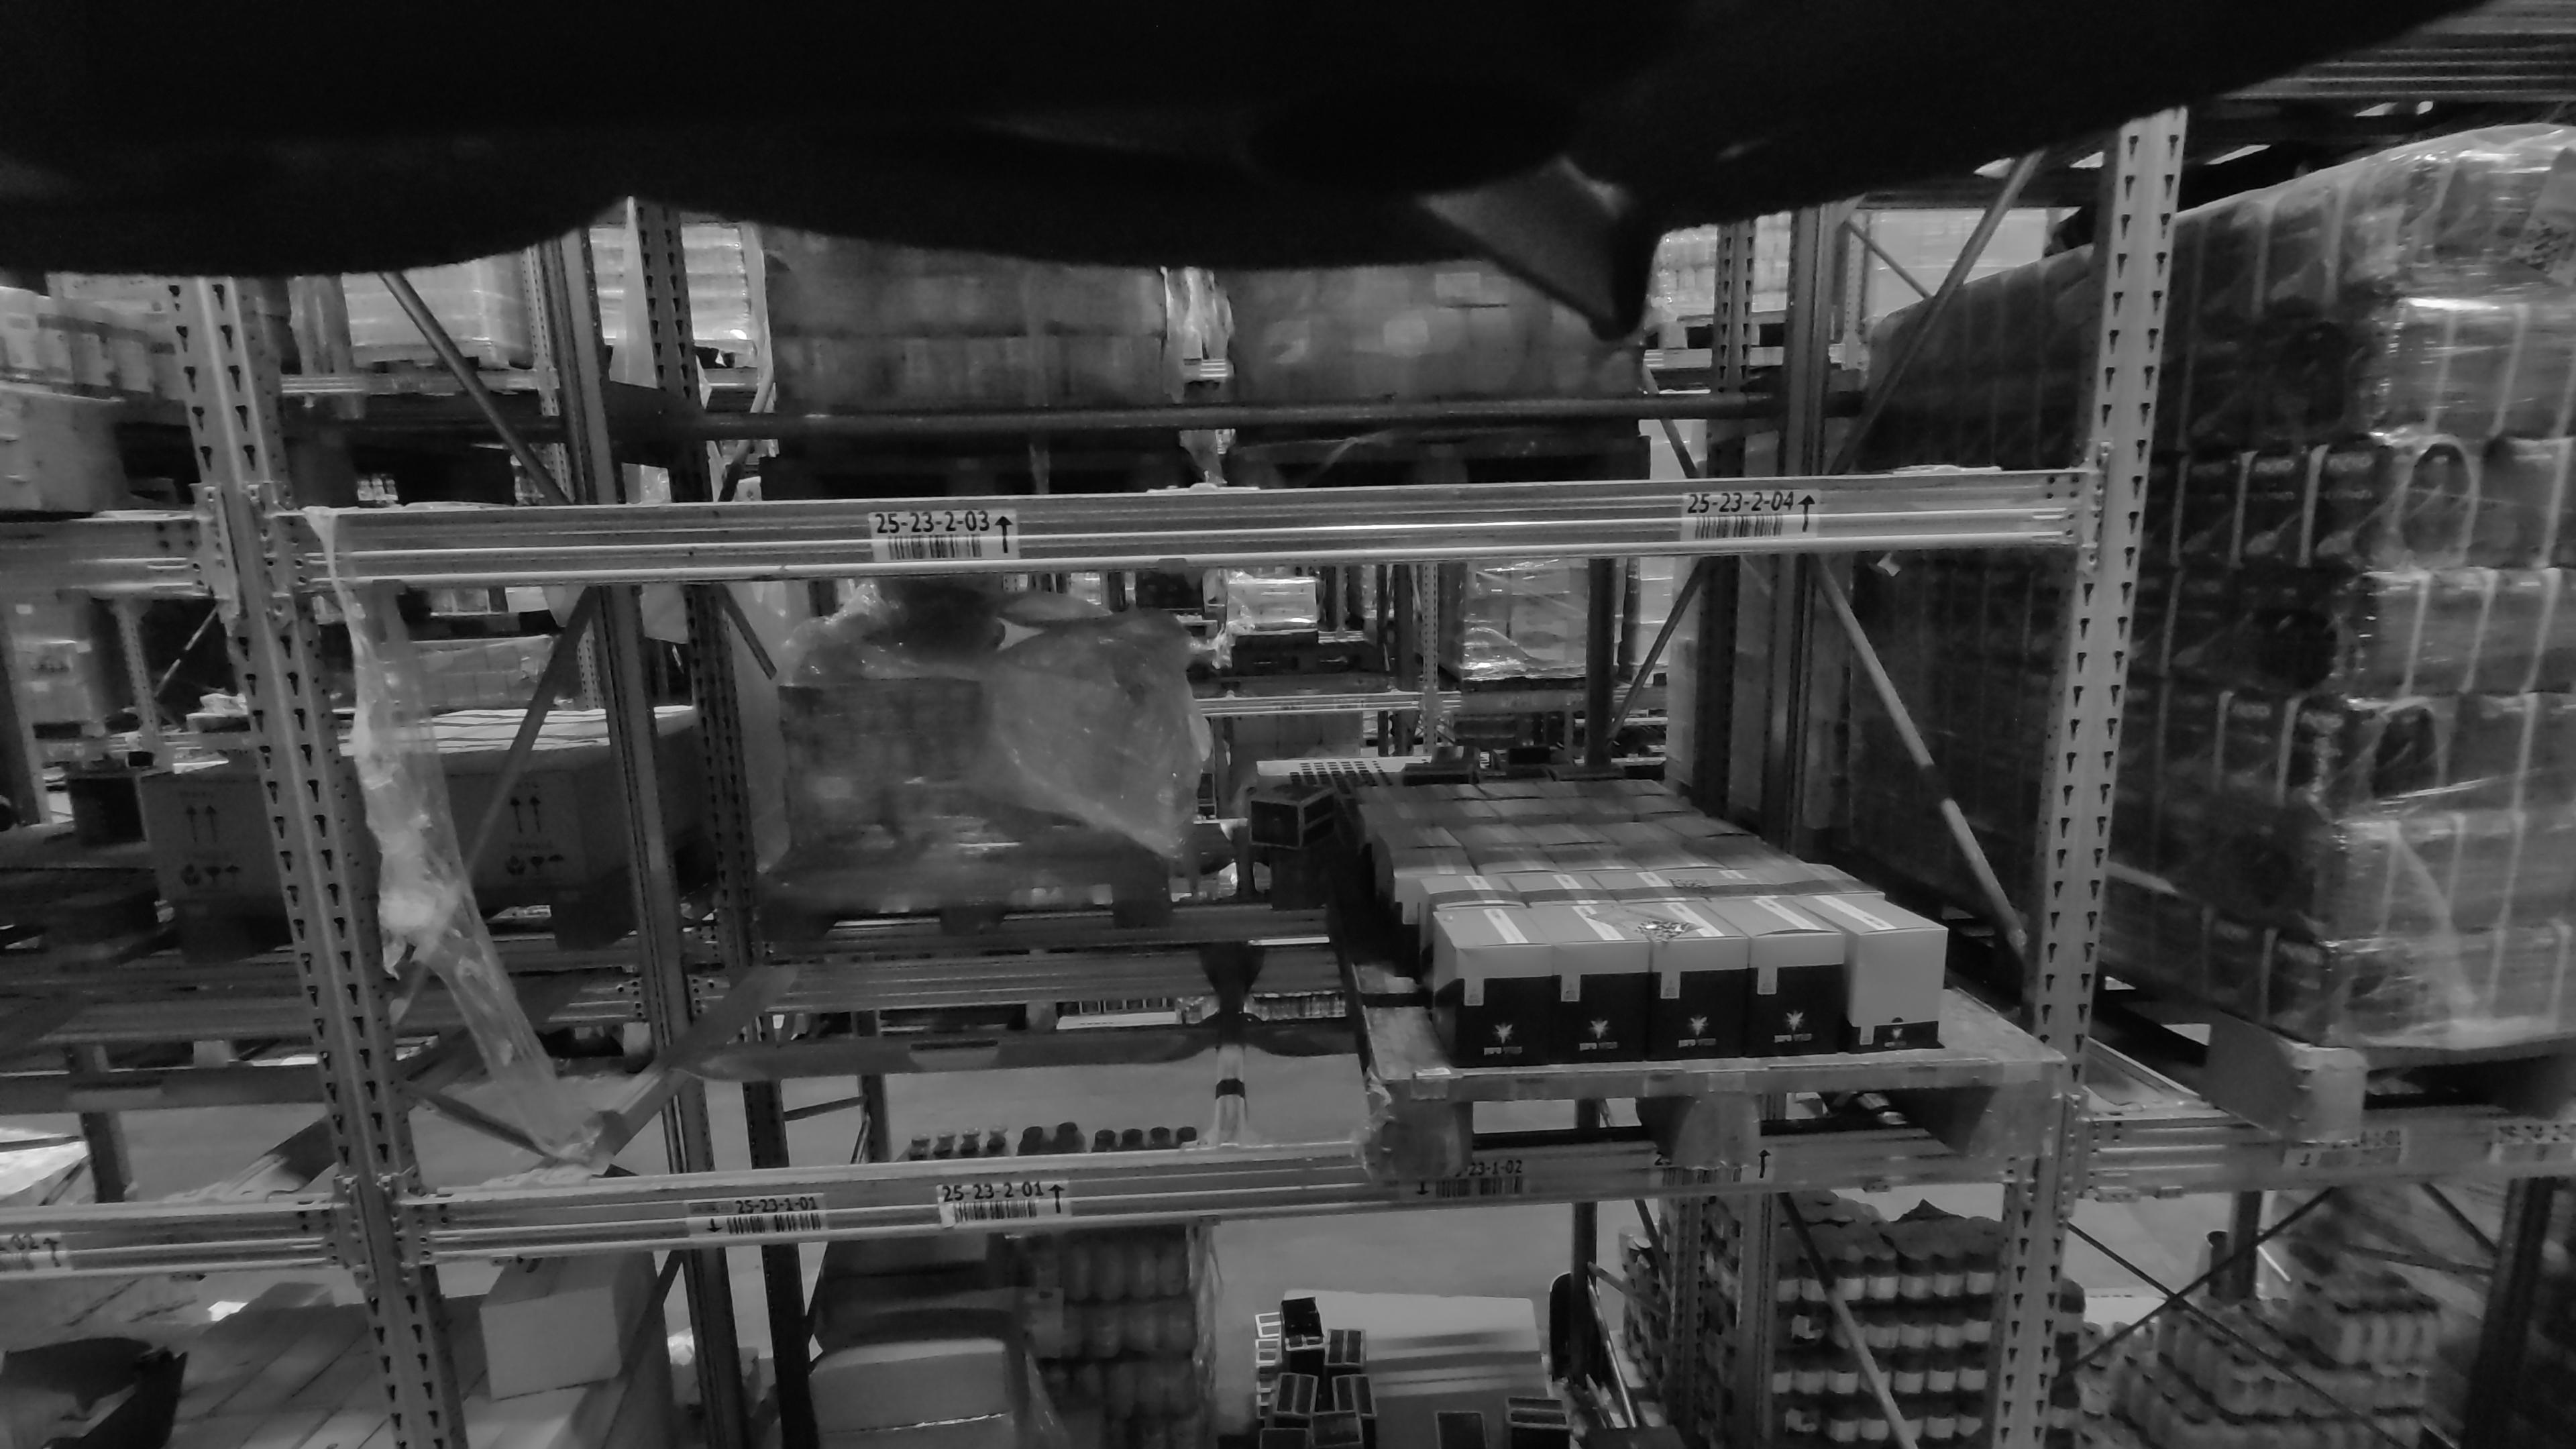empty-shelf: (610, 568, 1219, 1164), (458, 214, 1210, 494), (1348, 226, 2036, 474), (16, 594, 239, 1194)
